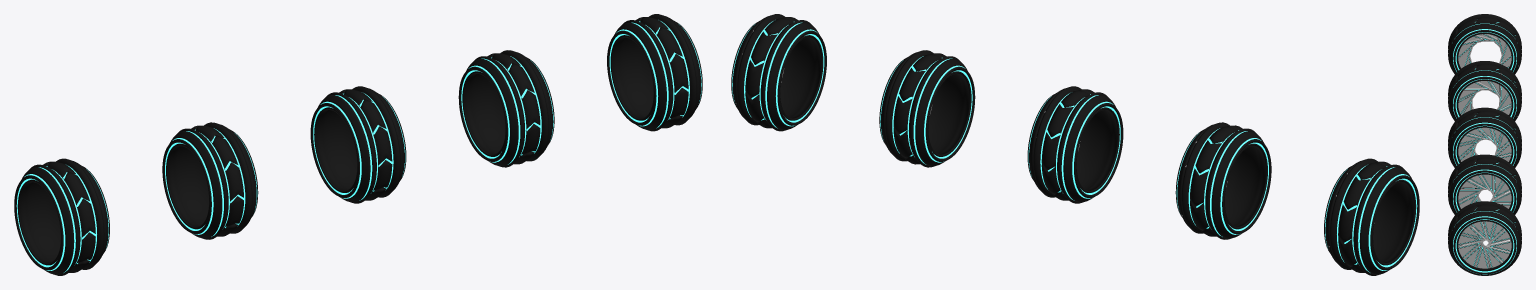
File: TireWithAperture.fbx
3 views of the same model, side by side, from view 1: azimuth 30°, elevation 25°; view 2: azimuth 150°, elevation 25°; view 3: azimuth 270°, elevation 25° (orthographic). The views are drawn at different scales.
Visible parts, largest first — view 1: Tire.002, Tire, Tire.003, Tire.001, Tire.004; view 2: Tire.002, Tire, Tire.003, Tire.001, Tire.004; view 3: Tire.001, Tire, Tire.002, Tire.003, Tire.004.
Boxes of the visible parts, <box> form: Tire.002: <box>310,86,406,203</box>; Tire: <box>458,50,554,167</box>; Tire.003: <box>162,122,258,239</box>; Tire.001: <box>607,14,702,131</box>; Tire.004: <box>14,158,109,275</box>; Tire.002: <box>1027,86,1123,203</box>; Tire: <box>879,50,975,167</box>; Tire.003: <box>1175,122,1271,239</box>; Tire.001: <box>731,14,826,131</box>; Tire.004: <box>1324,158,1419,275</box>; Tire.001: <box>1448,201,1521,275</box>; Tire: <box>1448,154,1521,228</box>; Tire.002: <box>1448,107,1521,167</box>; Tire.003: <box>1448,61,1521,120</box>; Tire.004: <box>1448,14,1521,74</box>.
Bounding box in the file's own units: 1298 × 200 × 200.
